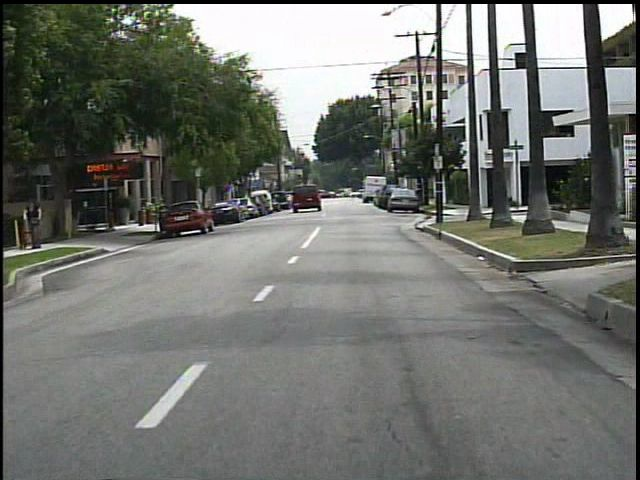person: (24, 196, 49, 251)
